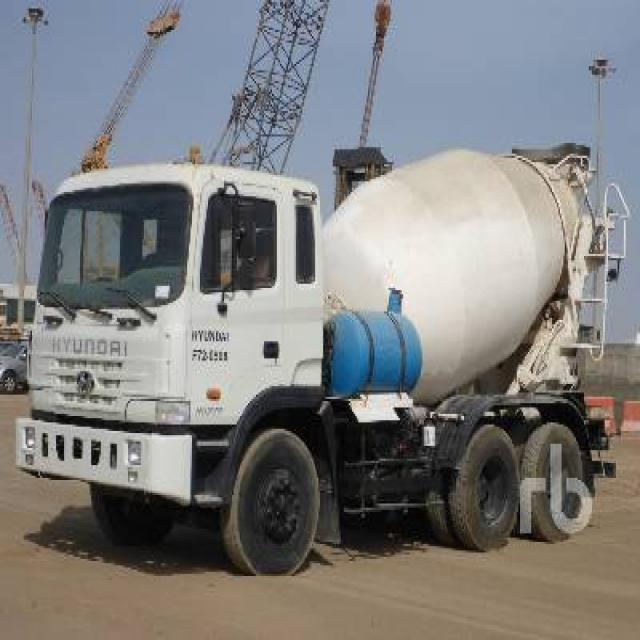Mixer Truck: (14, 137, 632, 579)
